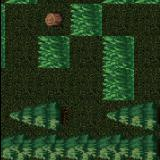Obstacle: (0, 132, 160, 160), (36, 3, 68, 36), (36, 101, 68, 132), (133, 101, 160, 131)
Slow: (101, 36, 133, 100), (36, 35, 70, 68), (70, 4, 102, 36)
